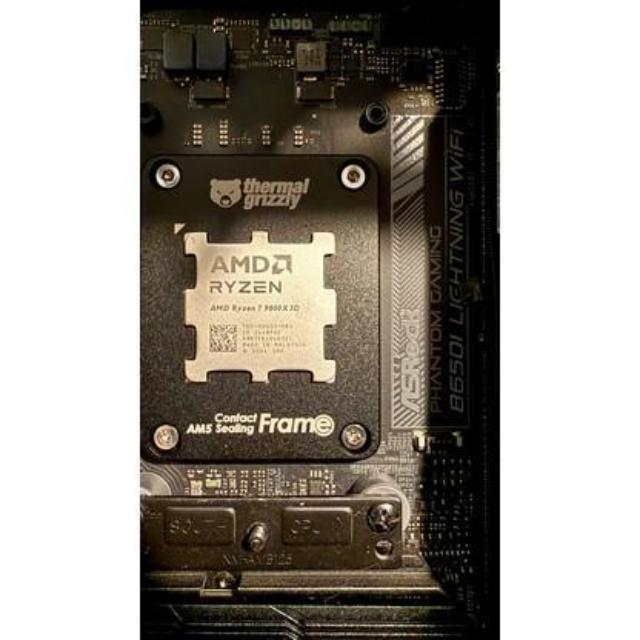CPU: (178, 228, 344, 388)
